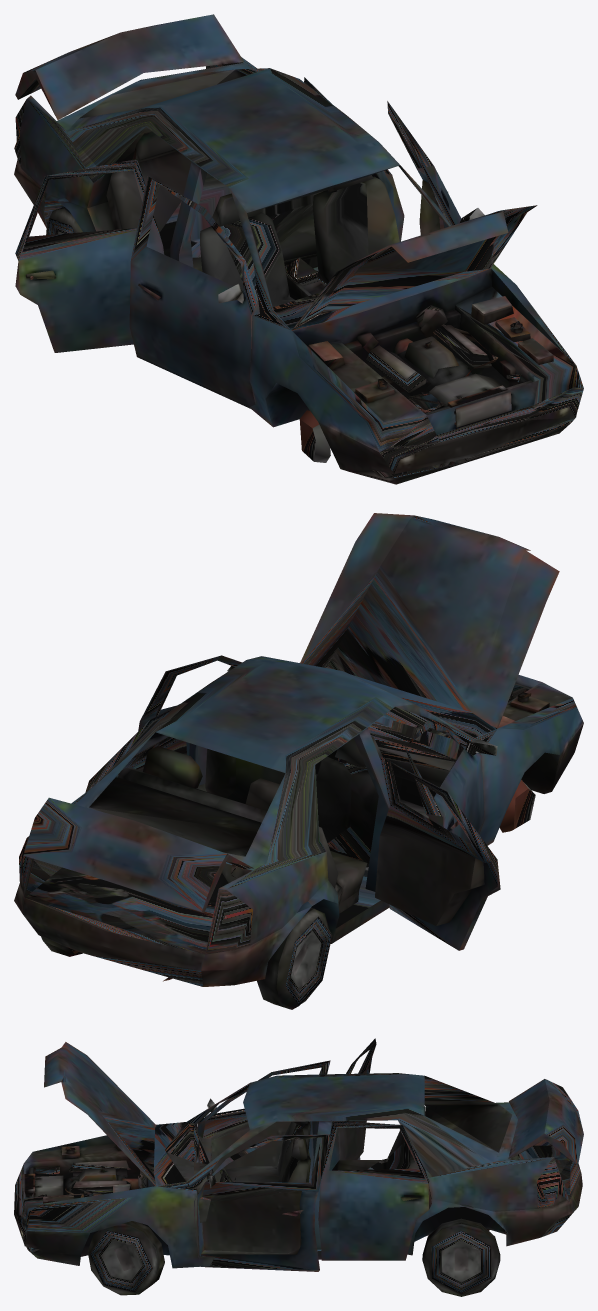
Rendered from rust-sedan.lod0.glb.
3 views of the same model, one above another, from view 1: azimuth 30°, elevation 25°; view 2: azimuth 150°, elevation 25°; view 3: azimuth 270°, elevation 25° (orthographic). The views are drawn at different scales.
Visible parts, largest first — view 1: Object_4; view 2: Object_4; view 3: Object_4.
Part boxes in pixels (left/top/right/bottom): Object_4: left=14, top=14, right=583, bottom=484; Object_4: left=14, top=513, right=583, bottom=1009; Object_4: left=14, top=1038, right=583, bottom=1296.
Size of the model in its own units: 2.85 by 1.74 by 4.79.
1 material, 1 textured.
